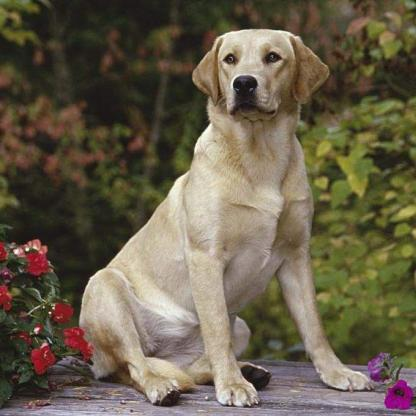dog: (85, 27, 374, 409)
